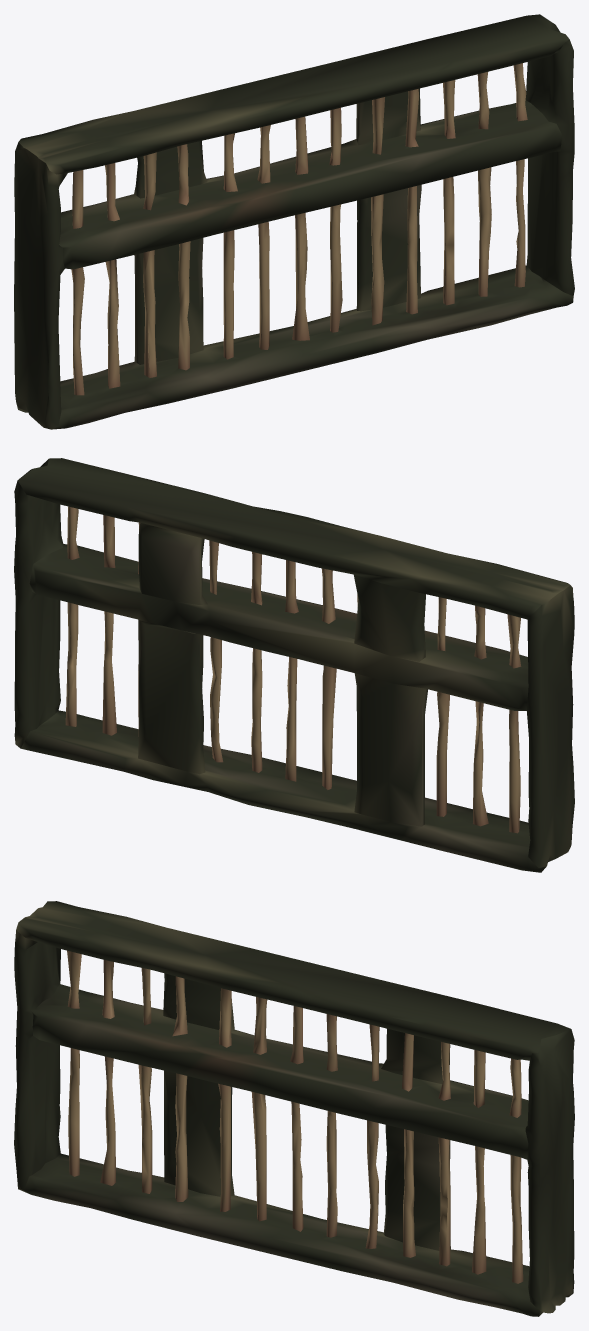
The model's file is AbacusFrame.dae.
3 renders of one model, top to bottom at view 1: azimuth 30°, elevation 25°; view 2: azimuth 150°, elevation 25°; view 3: azimuth 330°, elevation 25°, orthographic.
Parts seen in each view (by area): view 1: Cube; view 2: Cube; view 3: Cube.
Boxes of the visible parts, <box> form: Cube: <box>14,14,574,429</box>; Cube: <box>14,458,574,872</box>; Cube: <box>14,901,574,1316</box>.
Bounding box in the file's own units: 5.33 × 0.6216 × 2.59.
